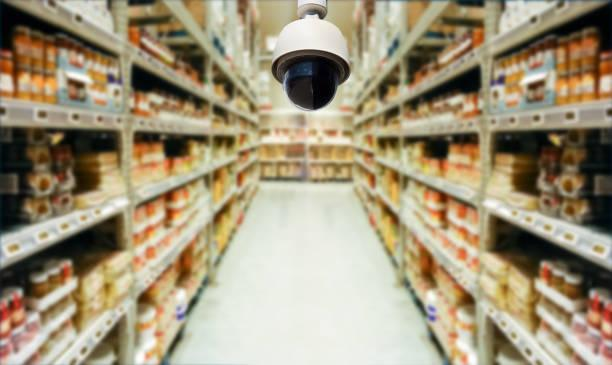camera: (262, 4, 365, 124)
